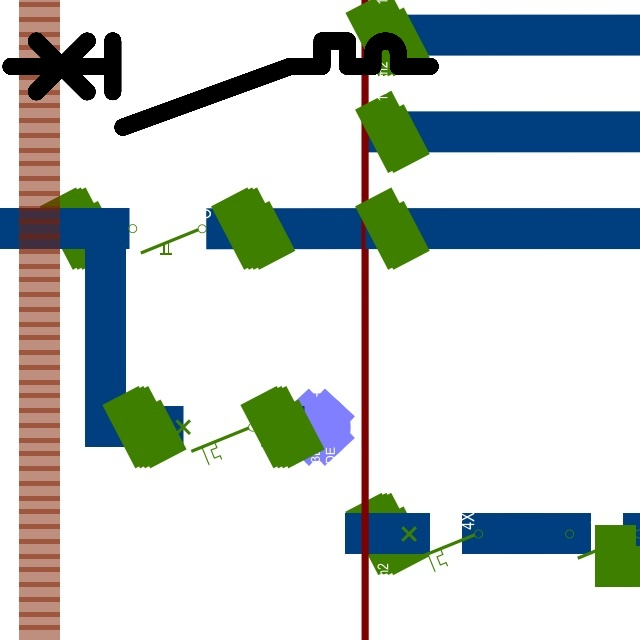interruptor_termomagnetico: (0, 30, 441, 138)
